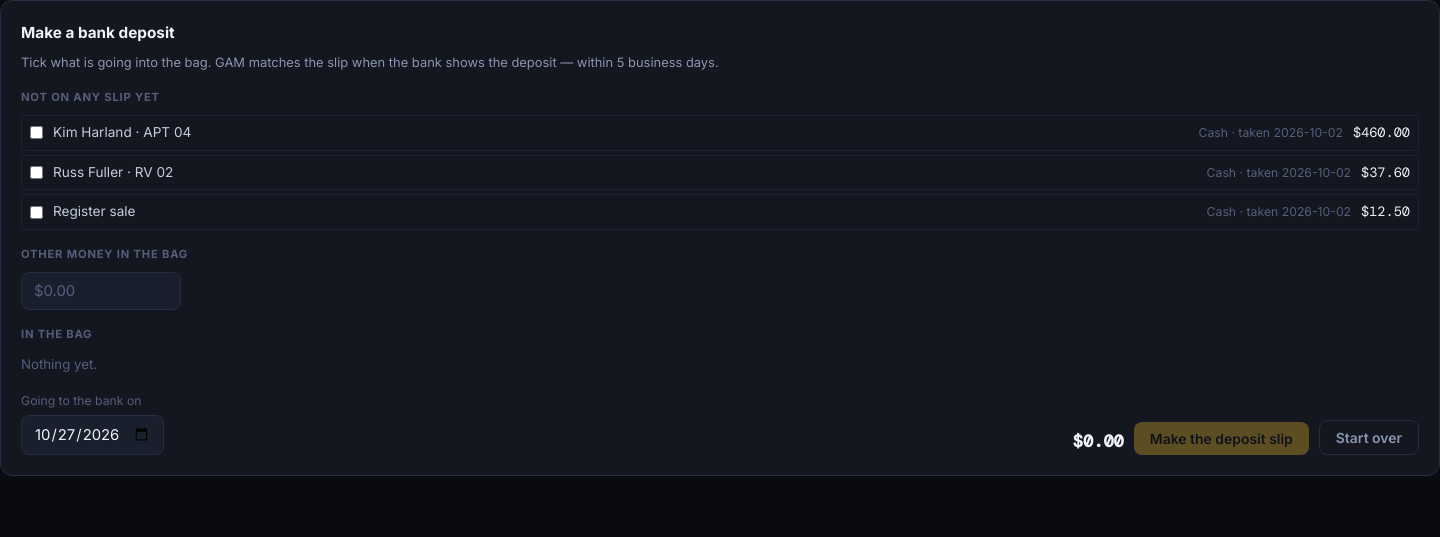
Test: Make a bank deposit › each payment in the bag is shown by name with an × that takes it out; Start over sends nothing
Click the checkbox labelled "Kim Harland · APT 04 Cash · taken 2026-10-02 $460.00". click: (36, 133)
box: [30,126,43,139]
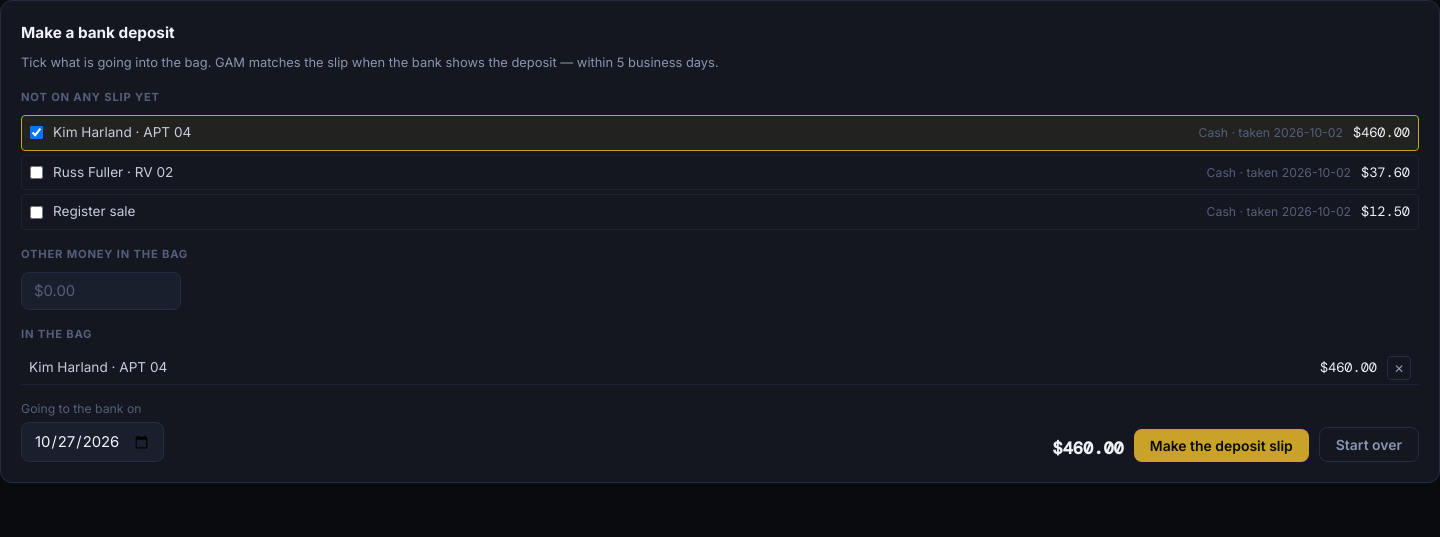
Click the checkbox labelled "Russ Fuller · RV 02 Cash · taken 2026-10-02 $37.60". click: (36, 172)
box: [30,166,43,179]
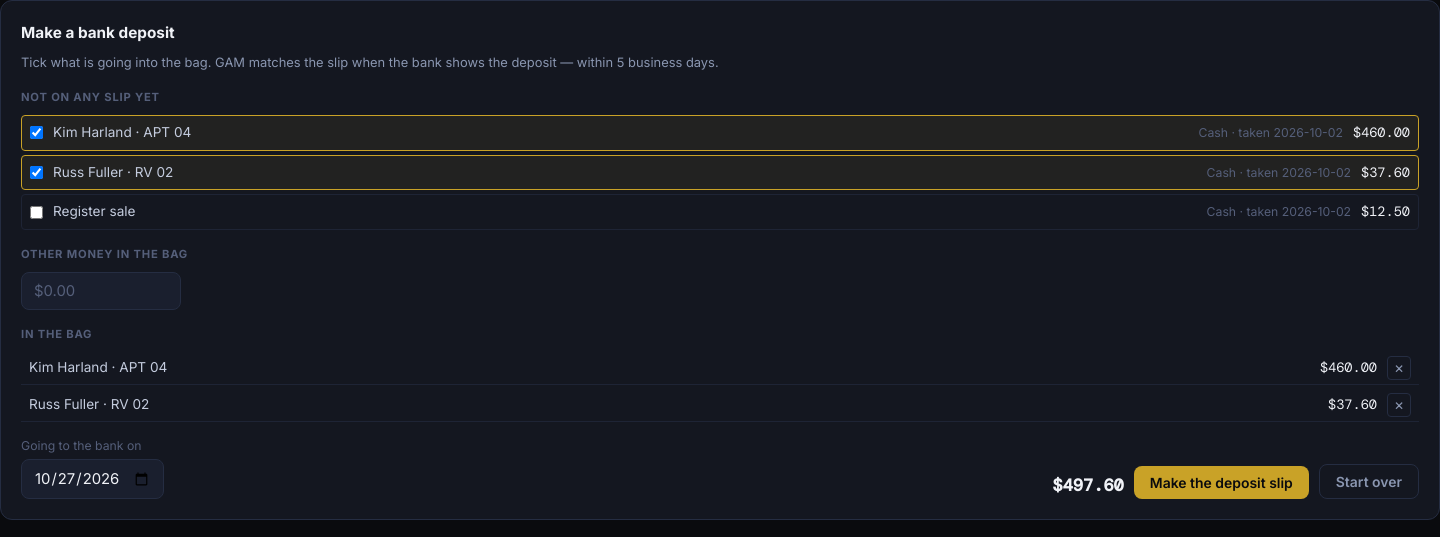
Expected: the button named "Take Russ Fuller · RV 02 out of the bag" is shown
Click the button named "Take Russ Fuller · RV 02 out of the bag". click: (1399, 405)
box: [1387,393,1411,417]
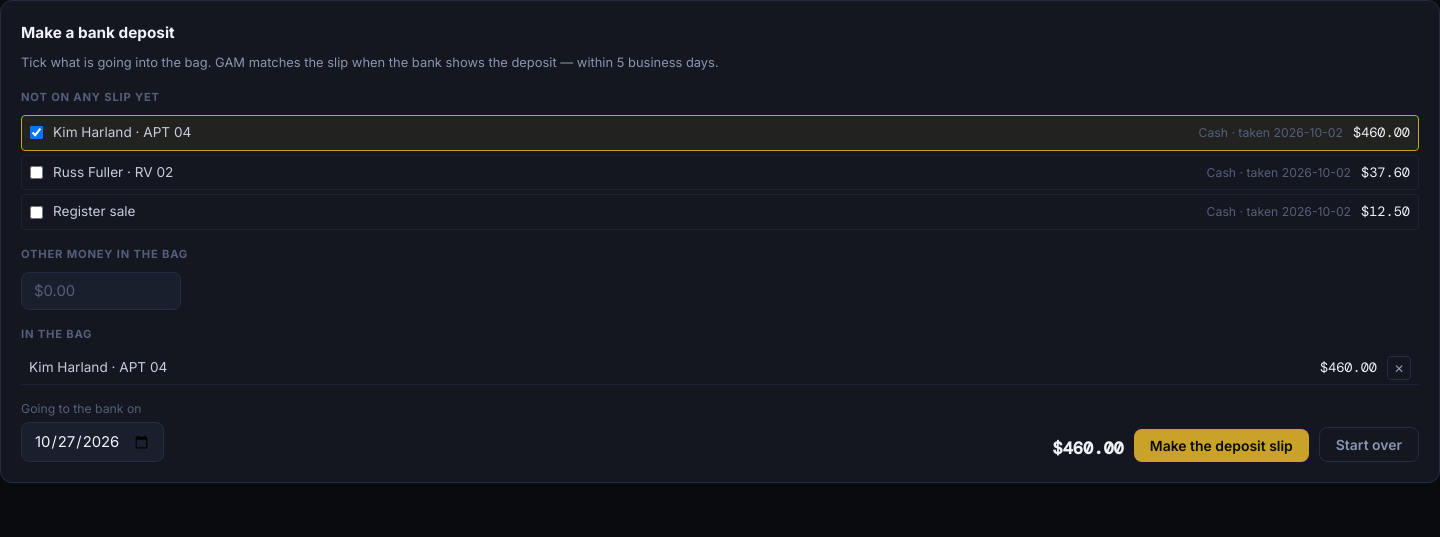
Click the button "Start over". click: (1369, 445)
box: [1319,428,1419,462]
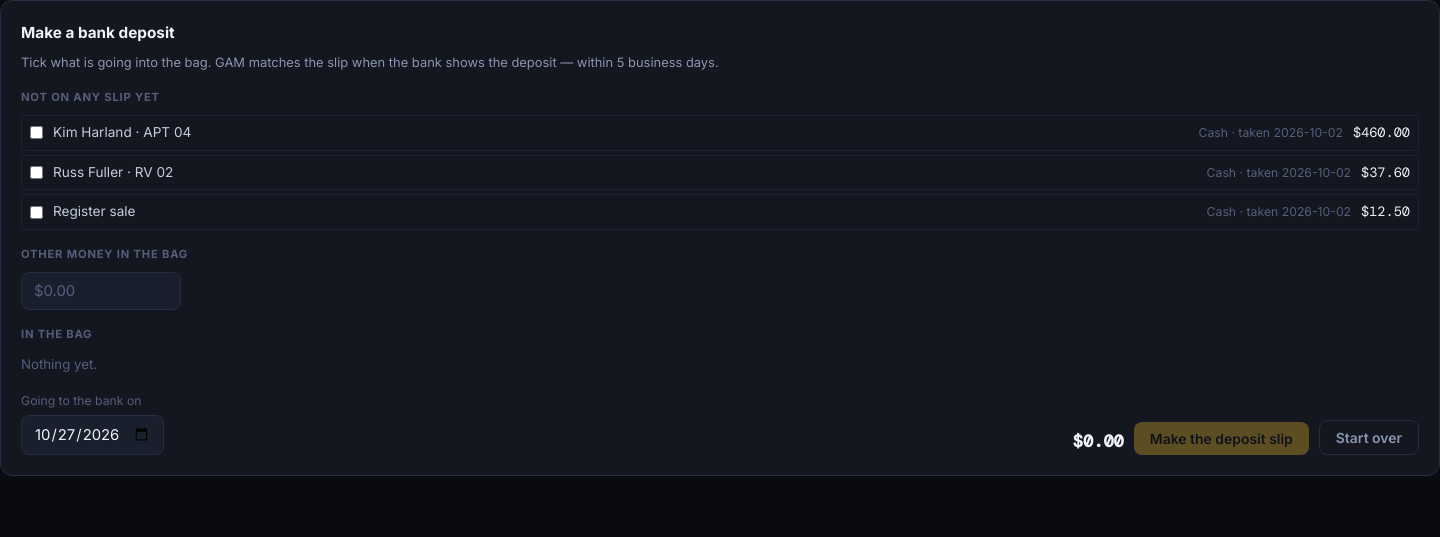
Expected: no elements with class "bankrec-bag-row" are shown
